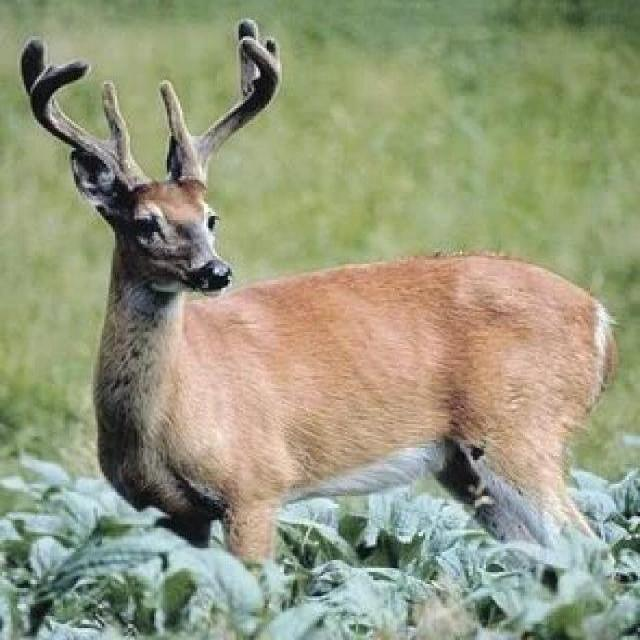deer: (13, 94, 640, 640)
